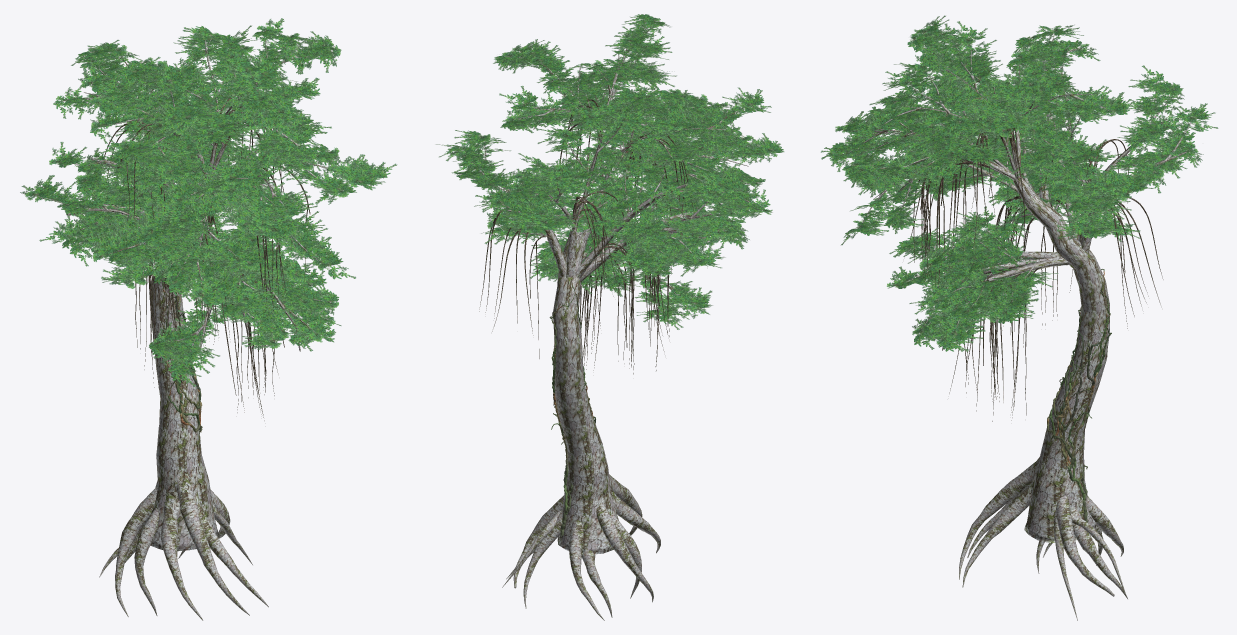
The model's file is Big_tree_01_D.glb.
The picture shows the model from 3 angles, left to right: view 1: azimuth 30°, elevation 25°; view 2: azimuth 150°, elevation 25°; view 3: azimuth 270°, elevation 25°; orthographic projection. The views are drawn at different scales.
Visible parts, largest first — view 1: Big_tree_01_D; view 2: Big_tree_01_D; view 3: Big_tree_01_D.
Part boxes in pixels (left/top/right/bottom): Big_tree_01_D: left=20, top=18, right=397, bottom=620; Big_tree_01_D: left=436, top=14, right=784, bottom=620; Big_tree_01_D: left=820, top=15, right=1218, bottom=620.
Bounding box in the file's own units: 12.61 × 22.98 × 14.91.
4 materials, 4 textured.
